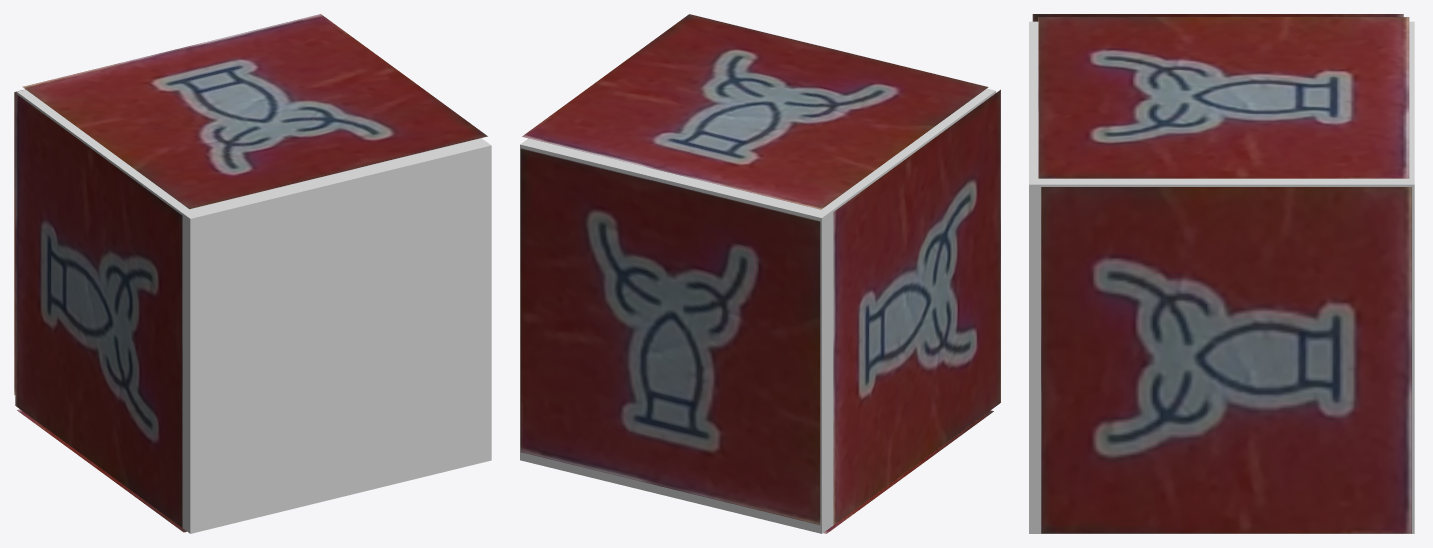
The picture shows the model from 3 angles, left to right: view 1: azimuth 30°, elevation 25°; view 2: azimuth 150°, elevation 25°; view 3: azimuth 270°, elevation 25°; orthographic projection. The views are drawn at different scales.
Parts seen in each view (by area): view 1: Link28, R1.002, R1.004, R1.005, R1.001; view 2: R1.001, R1.002, R1.004, Link28, R1.005; view 3: R1.003, R1.004, Link28, R1.002.
Part boxes in pixels (left/top/right/bottom): Link28: left=16, top=89, right=491, bottom=533; R1.002: left=15, top=93, right=182, bottom=527; R1.004: left=22, top=14, right=487, bottom=209; R1.005: left=17, top=409, right=186, bottom=532; R1.001: left=14, top=89, right=25, bottom=395; R1.001: left=520, top=148, right=820, bottom=524; R1.002: left=833, top=89, right=1000, bottom=524; R1.004: left=522, top=14, right=988, bottom=209; Link28: left=520, top=88, right=995, bottom=533; R1.005: left=823, top=410, right=993, bottom=533; R1.003: left=1041, top=187, right=1411, bottom=533; R1.004: left=1038, top=17, right=1409, bottom=178; Link28: left=1029, top=21, right=1414, bottom=533; R1.002: left=1032, top=14, right=1403, bottom=21.
Size of the model in its own units: 0.3585 by 0.3539 by 0.3577.
Materials: 1 (1 with a texture image).
